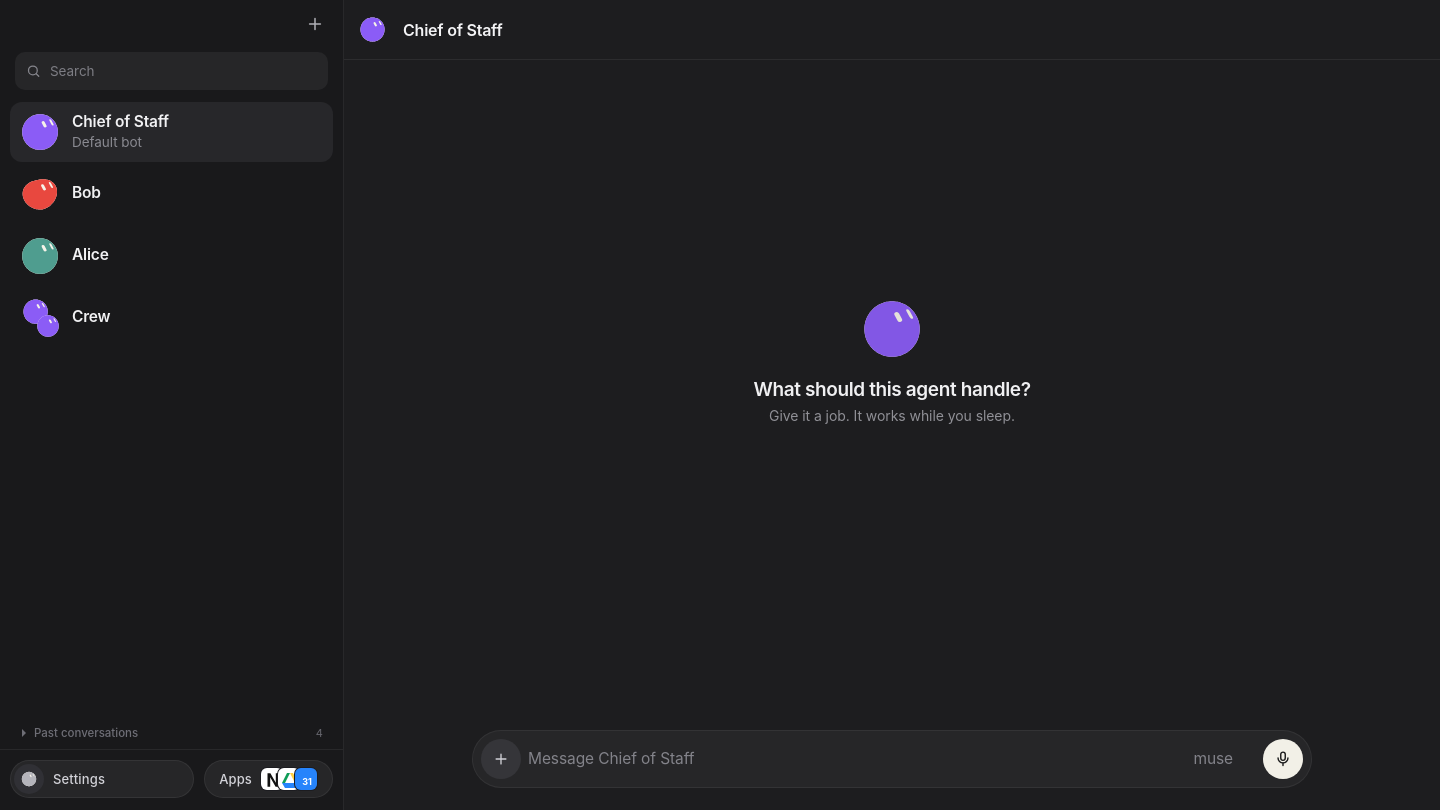
Test: a group › asks for a bot by name when the person writes @
Step 1. Click the button "Crew" → coordinates (91, 316), box [10, 288, 333, 348]
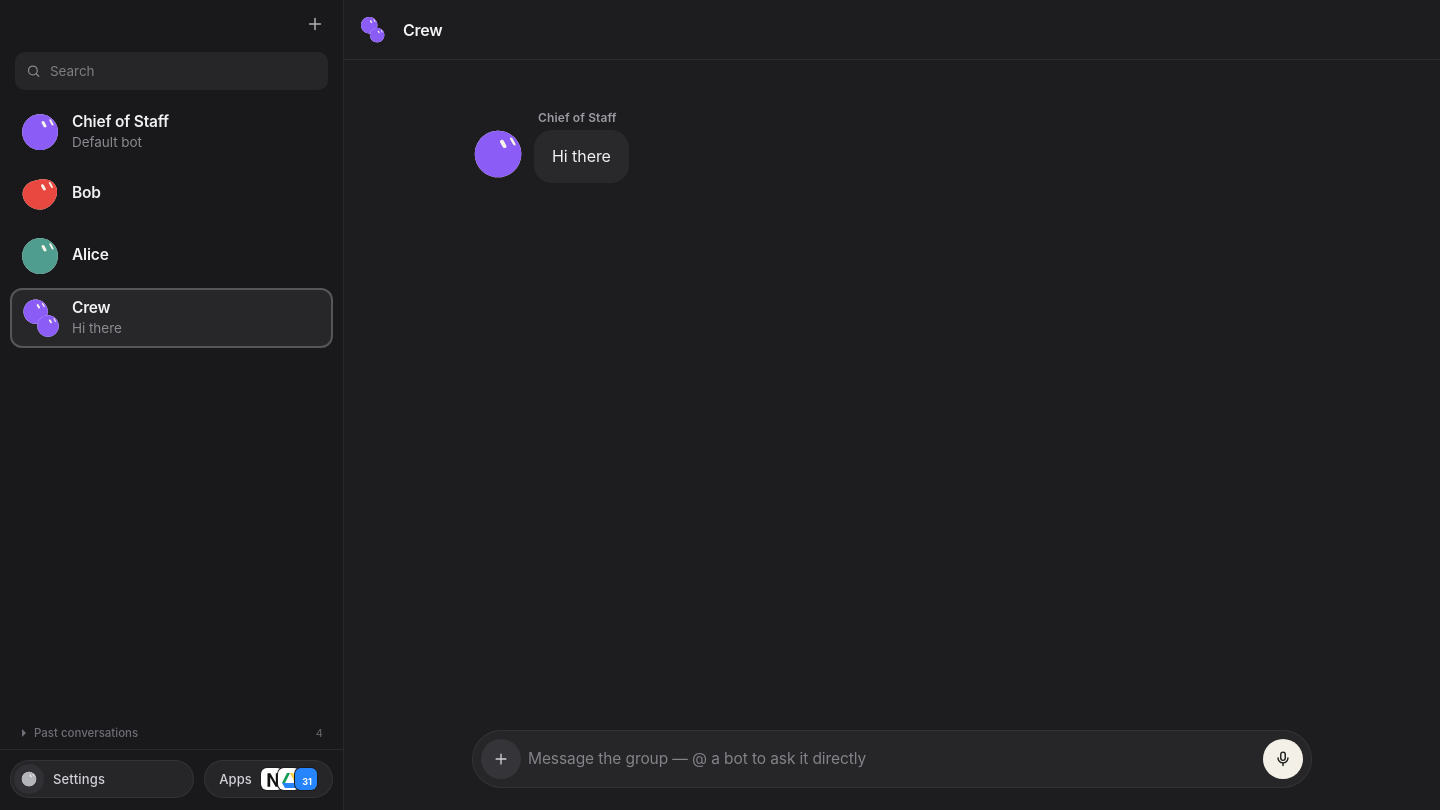
Step 2. Type "@" into the text box labelled "Message the group — @ a bot to ask it directly" → coordinates (892, 759), box [525, 739, 1259, 779]
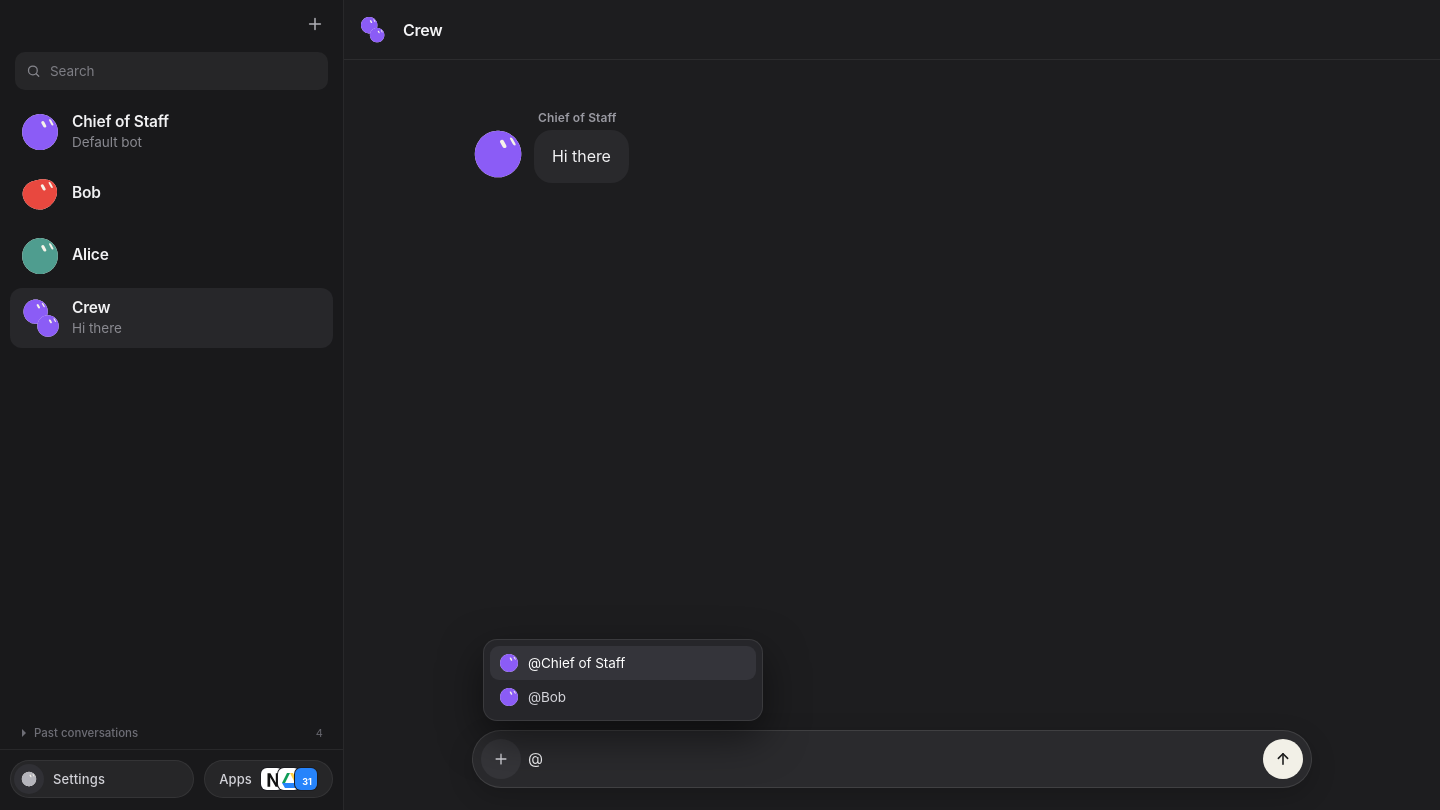
Expected: the text "@Bob" is shown, [528, 689, 566, 705]
